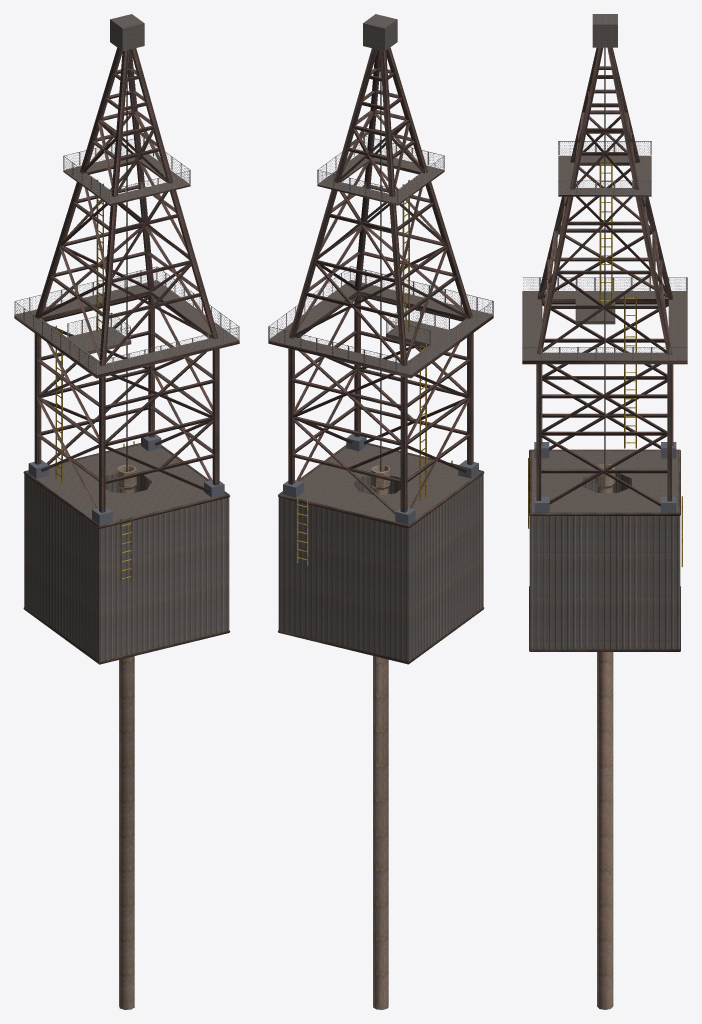
File: OPLT02.glb
The picture shows the model from 3 angles, left to right: view 1: azimuth 30°, elevation 25°; view 2: azimuth 150°, elevation 25°; view 3: azimuth 270°, elevation 25°; orthographic projection.
Visible parts, largest first — view 1: _OPLT02; view 2: _OPLT02; view 3: _OPLT02.
Boxes of the visible parts, x1,y1,x2,y2 form: _OPLT02: (14,14,239,1009); _OPLT02: (268,14,493,1009); _OPLT02: (522,14,687,1009).
Size of the model in its own units: 11 by 72.44 by 11.
9 materials, 9 textured.
